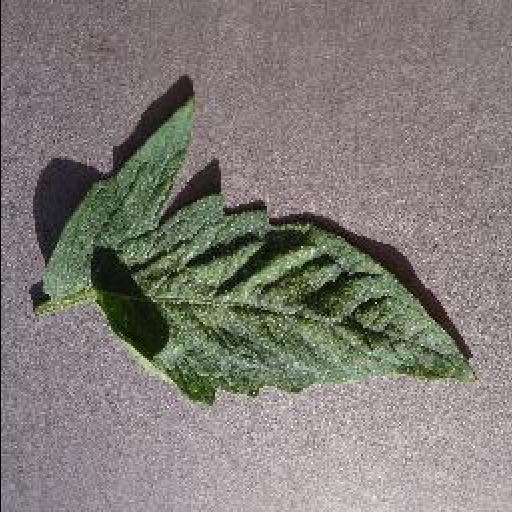disease_tomato: (40, 96, 482, 408)
